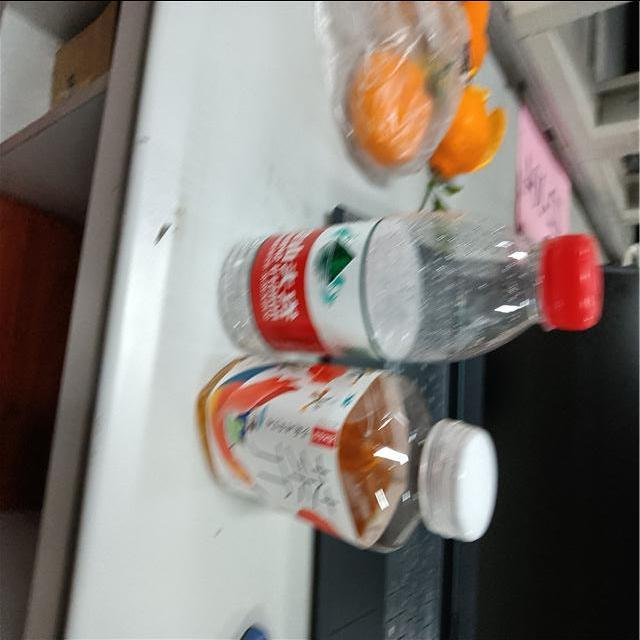orange peel: (435, 78, 507, 180)
